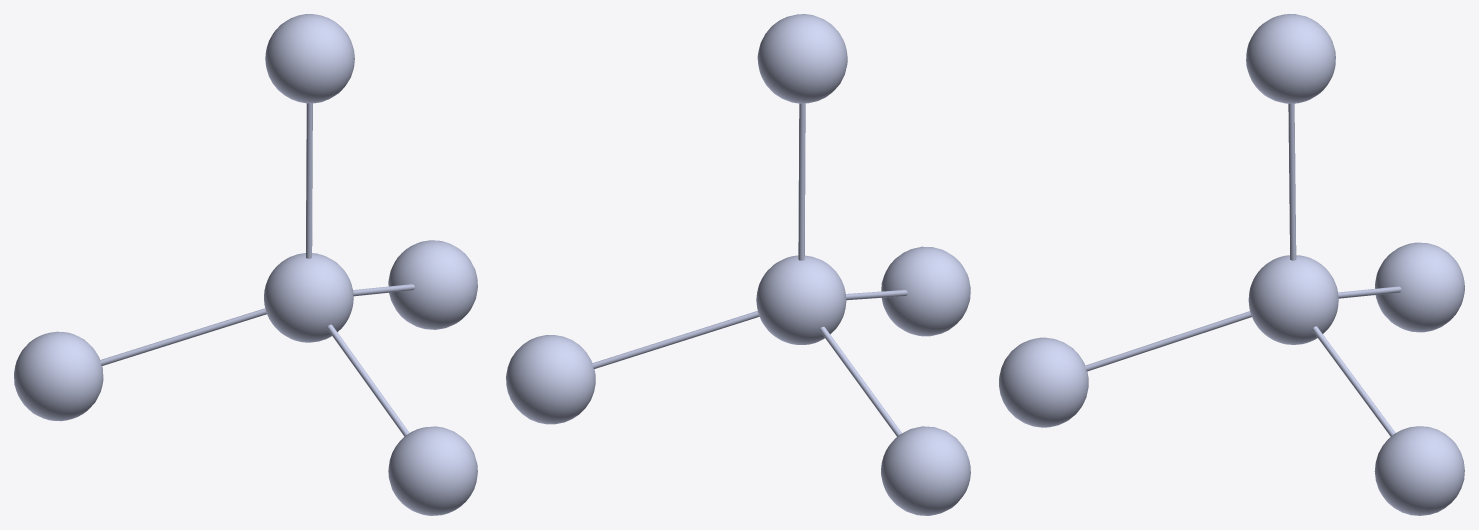
Rendered from Tetraheadral.obj.
The picture shows the model from 3 angles, left to right: view 1: azimuth 30°, elevation 25°; view 2: azimuth 150°, elevation 25°; view 3: azimuth 270°, elevation 25°; orthographic projection.
Parts seen in each view (by area): view 1: DirectConnectNode_39_DC_Shell, DirectConnectNode_2_DC_Shell, DirectConnectNode_53_DC_Shell, DirectConnectNode_10_DC_Shell, DirectConnectNode_25_DC_Shell, DirectConnectNode_60_DC_Shell, DirectConnectNode_18_DC_Shell, DirectConnectNode_46_DC_Shell; view 2: DirectConnectNode_2_DC_Shell, DirectConnectNode_53_DC_Shell, DirectConnectNode_25_DC_Shell, DirectConnectNode_10_DC_Shell, DirectConnectNode_39_DC_Shell, DirectConnectNode_32_DC_Shell, DirectConnectNode_18_DC_Shell, DirectConnectNode_60_DC_Shell; view 3: DirectConnectNode_25_DC_Shell, DirectConnectNode_2_DC_Shell, DirectConnectNode_39_DC_Shell, DirectConnectNode_10_DC_Shell, DirectConnectNode_53_DC_Shell, DirectConnectNode_46_DC_Shell, DirectConnectNode_18_DC_Shell, DirectConnectNode_32_DC_Shell.
Boxes of the visible parts, x1,y1,x2,y2 form: DirectConnectNode_39_DC_Shell: [388, 426, 477, 515]; DirectConnectNode_2_DC_Shell: [265, 14, 354, 103]; DirectConnectNode_53_DC_Shell: [14, 331, 103, 421]; DirectConnectNode_10_DC_Shell: [264, 253, 353, 342]; DirectConnectNode_25_DC_Shell: [388, 240, 477, 329]; DirectConnectNode_60_DC_Shell: [100, 308, 266, 365]; DirectConnectNode_18_DC_Shell: [306, 103, 312, 258]; DirectConnectNode_46_DC_Shell: [327, 324, 409, 436]; DirectConnectNode_2_DC_Shell: [757, 14, 847, 103]; DirectConnectNode_53_DC_Shell: [881, 426, 970, 515]; DirectConnectNode_25_DC_Shell: [506, 335, 595, 424]; DirectConnectNode_10_DC_Shell: [756, 255, 846, 344]; DirectConnectNode_39_DC_Shell: [881, 246, 970, 336]; DirectConnectNode_32_DC_Shell: [592, 311, 759, 368]; DirectConnectNode_18_DC_Shell: [798, 103, 805, 260]; DirectConnectNode_60_DC_Shell: [819, 326, 901, 436]; DirectConnectNode_25_DC_Shell: [1374, 426, 1464, 515]; DirectConnectNode_2_DC_Shell: [1246, 14, 1335, 103]; DirectConnectNode_39_DC_Shell: [999, 337, 1088, 427]; DirectConnectNode_10_DC_Shell: [1248, 255, 1338, 344]; DirectConnectNode_53_DC_Shell: [1375, 242, 1464, 332]; DirectConnectNode_46_DC_Shell: [1085, 311, 1251, 371]; DirectConnectNode_18_DC_Shell: [1288, 103, 1296, 260]; DirectConnectNode_32_DC_Shell: [1312, 326, 1395, 436].
Bounding box in the file's own units: 0.2953 × 0.252 × 0.2625.
